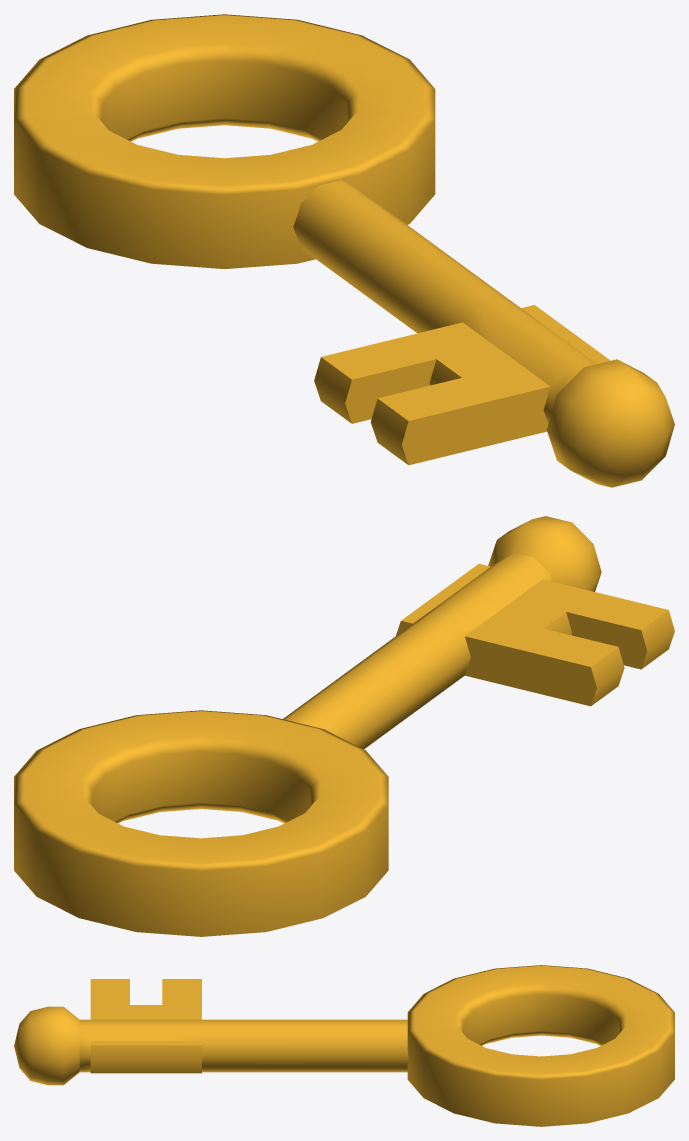
File: SM_Rewards_Key.fbx
The picture shows the model from 3 angles, top to bottom: view 1: azimuth 30°, elevation 25°; view 2: azimuth 150°, elevation 25°; view 3: azimuth 270°, elevation 25°; orthographic projection. The views are drawn at different scales.
Visible parts, largest first — view 1: SM_Rewards_Key; view 2: SM_Rewards_Key; view 3: SM_Rewards_Key.
Part boxes in pixels (x1,y1,x2,y2): SM_Rewards_Key: (14,14,674,487); SM_Rewards_Key: (14,516,674,936); SM_Rewards_Key: (14,965,674,1126).
Size of the model in its own units: 14.23 by 3.93 by 34.63.
